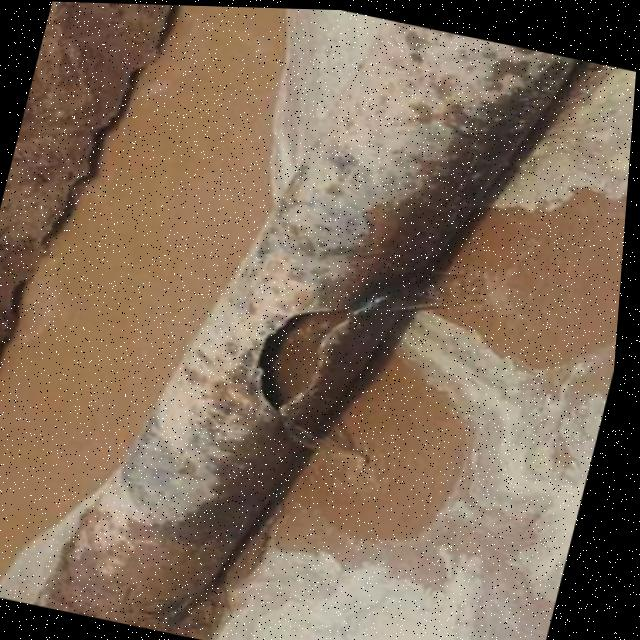rupture: (244, 274, 385, 442)
